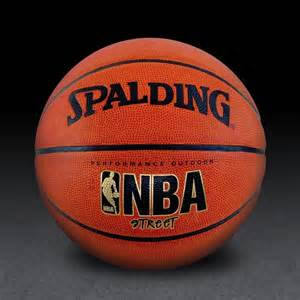basketball: (33, 36, 269, 276)
